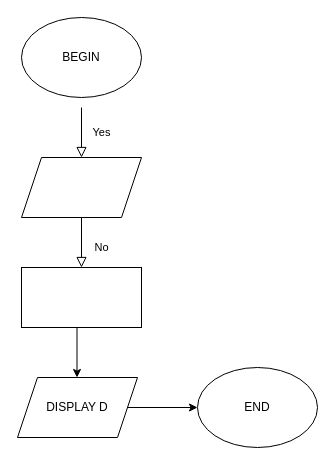
This 335x465 diagram has some shape labels left out. Here are the shapes that lost their labels. From the top down, the centre of each, then its label:
At pixel 81 187: "INPUT A B C".
At pixel 81 297: "D = ( A + B + C) /3".
